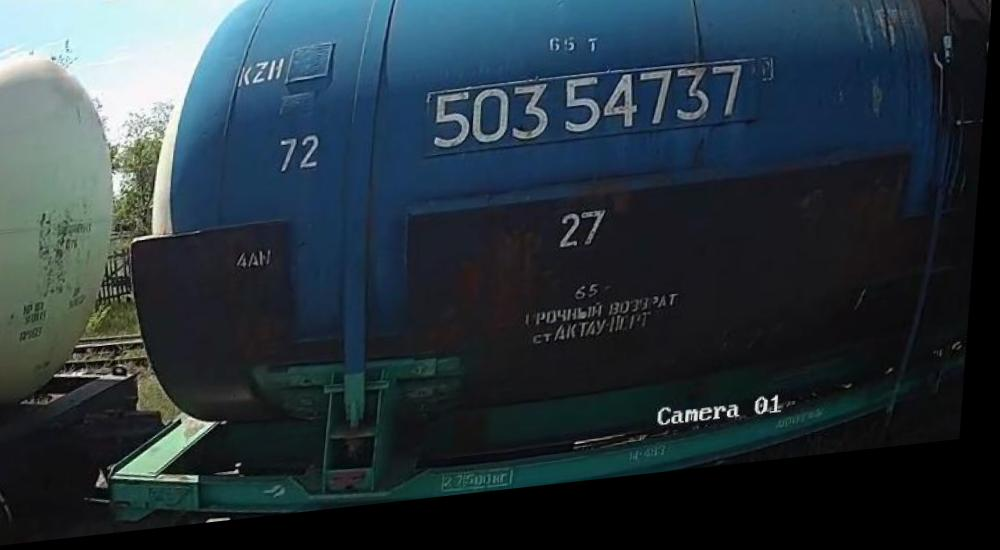Wagon-number: (426, 72, 757, 169)
